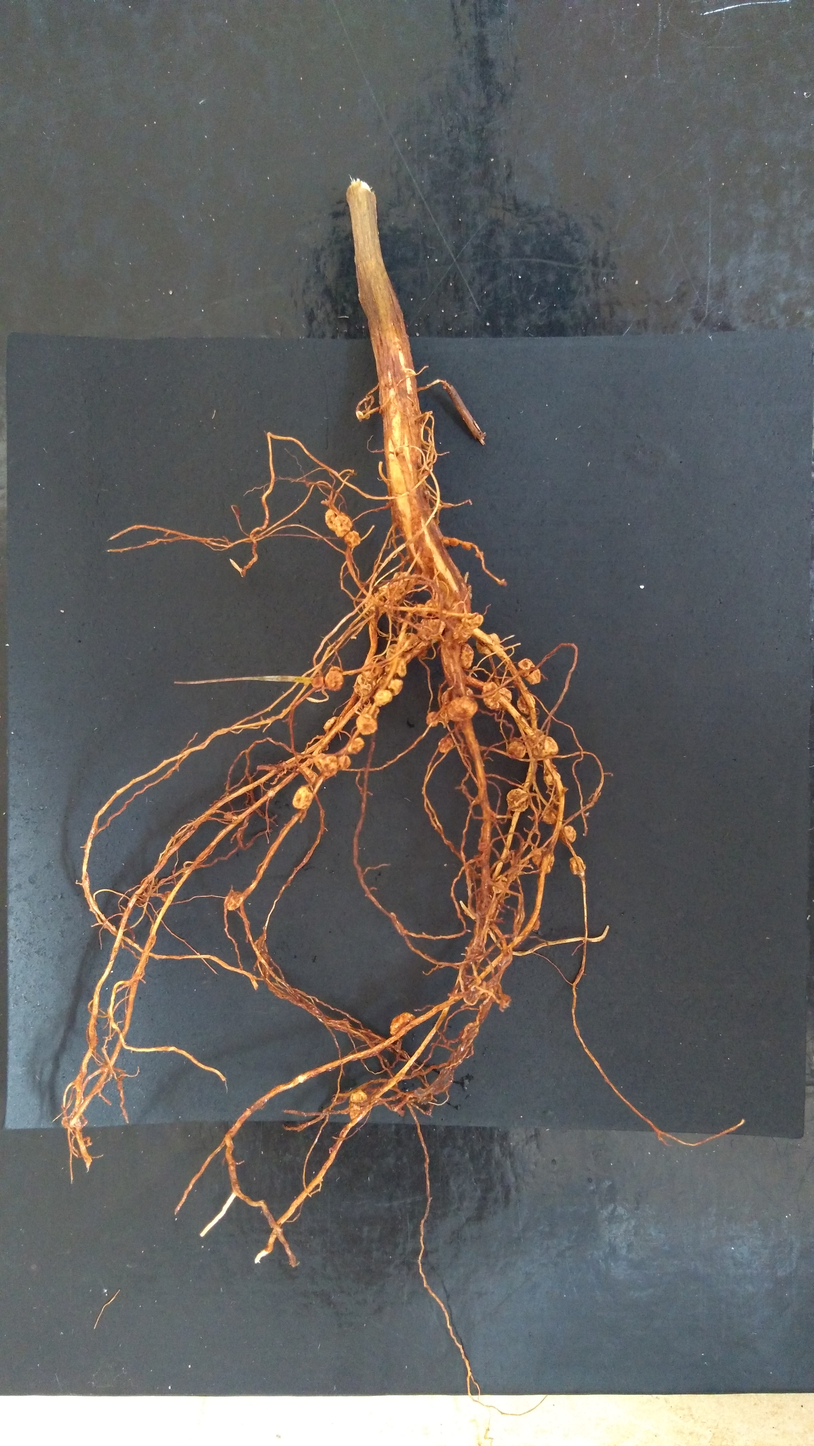nodule: (481, 680, 514, 713), (451, 611, 484, 642), (445, 695, 479, 724), (387, 1009, 416, 1038), (415, 617, 447, 642), (504, 786, 531, 815), (474, 631, 502, 658), (530, 846, 556, 874), (531, 735, 560, 760), (312, 752, 340, 777), (440, 685, 475, 704), (355, 711, 380, 736), (290, 785, 314, 811), (378, 580, 406, 602), (503, 738, 527, 762), (515, 693, 540, 716), (322, 670, 345, 694), (331, 514, 354, 538), (383, 642, 401, 671), (353, 672, 373, 698), (391, 571, 413, 593), (459, 642, 475, 671), (401, 631, 422, 653), (224, 890, 244, 913), (372, 688, 394, 708), (522, 667, 544, 687), (557, 824, 578, 844), (386, 677, 405, 699), (569, 854, 586, 877), (343, 529, 362, 549), (347, 736, 365, 756), (542, 769, 562, 787), (322, 507, 336, 532), (437, 736, 455, 755), (300, 765, 320, 782), (321, 715, 338, 733), (348, 1101, 362, 1122), (540, 809, 557, 826), (309, 674, 325, 690), (337, 754, 352, 771), (424, 711, 439, 728), (395, 659, 408, 678), (516, 658, 536, 670), (349, 1090, 369, 1102), (327, 665, 345, 674), (160, 890, 172, 903), (460, 541, 473, 551), (449, 537, 460, 548), (266, 789, 275, 800), (441, 536, 449, 546)
